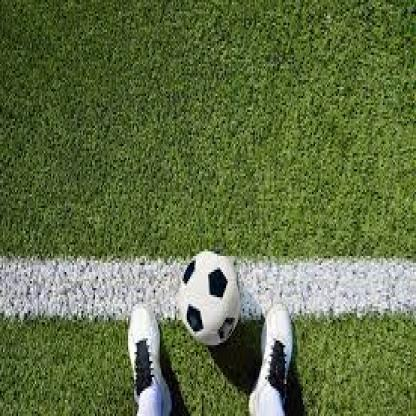ball: (182, 250, 242, 348)
